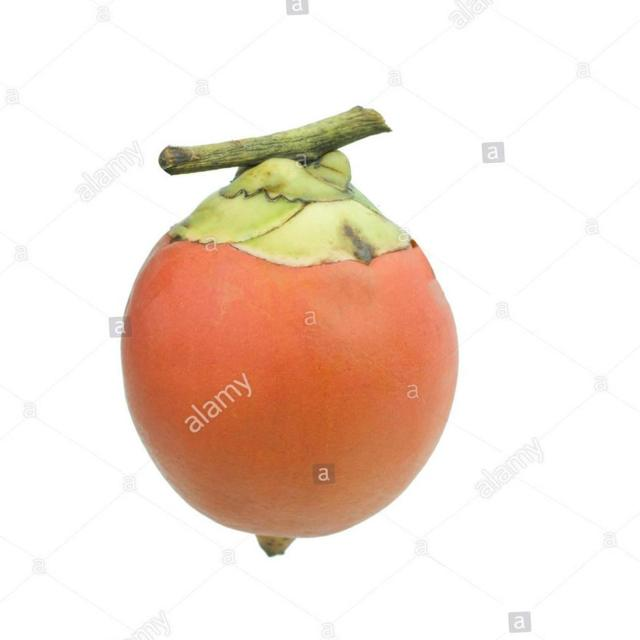good: (120, 138, 461, 542)
